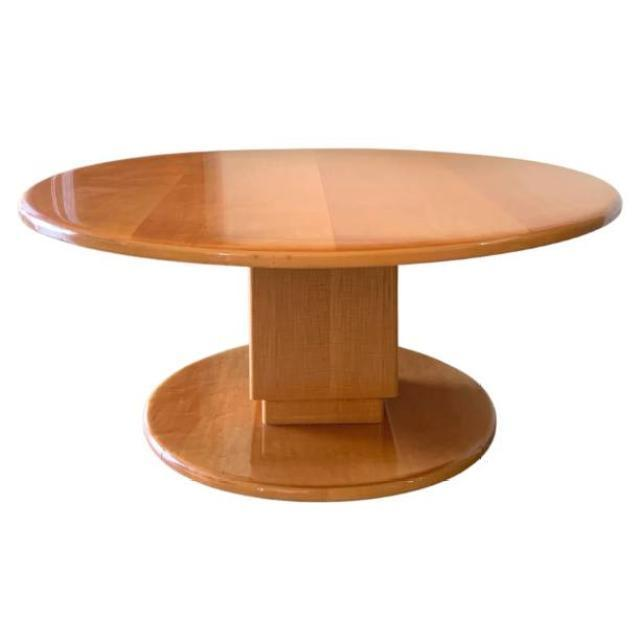table: (16, 145, 622, 502)
